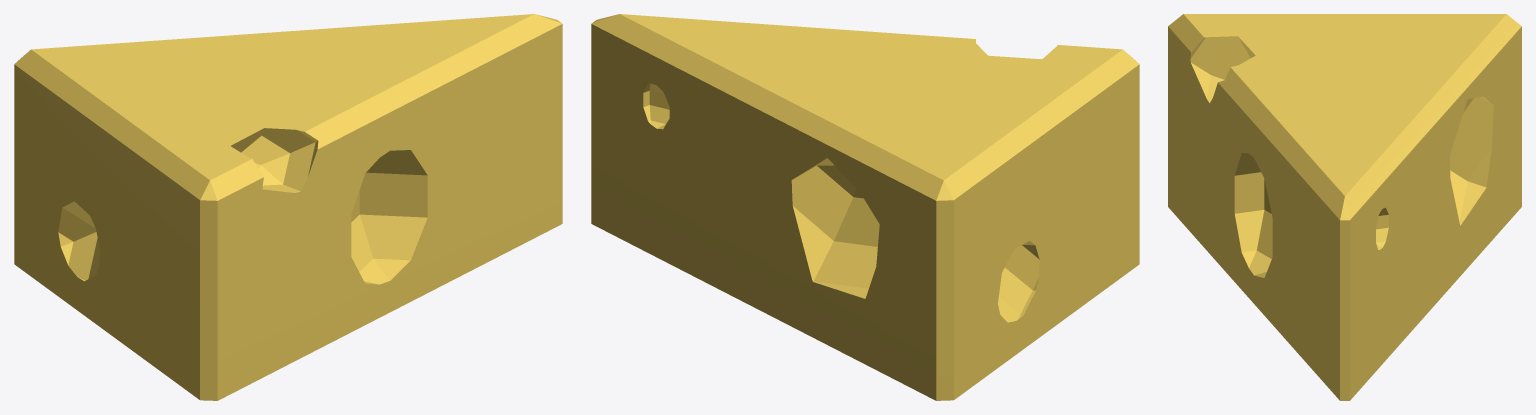
The model's file is cheese.glb.
The picture shows the model from 3 angles, left to right: view 1: azimuth 30°, elevation 25°; view 2: azimuth 150°, elevation 25°; view 3: azimuth 270°, elevation 25°; orthographic projection. The views are drawn at different scales.
Visible parts, largest first — view 1: Cheese.001; view 2: Cheese.001; view 3: Cheese.001.
Boxes of the visible parts, box(x1,y1,x2,y2) form: Cheese.001: box(14, 14, 562, 400); Cheese.001: box(591, 14, 1139, 400); Cheese.001: box(1168, 14, 1521, 400).
Bounding box in the file's own units: 0.2452 × 0.1108 × 0.1837.
1 material, 1 textured.
